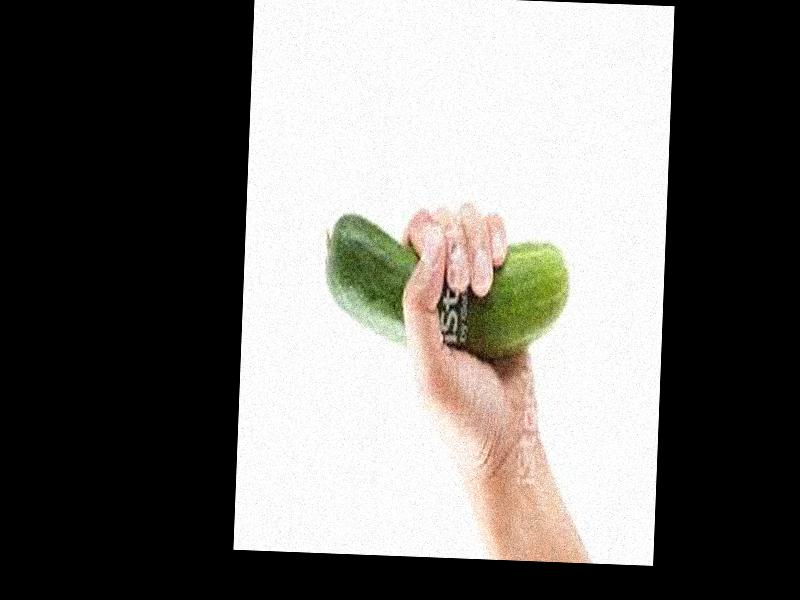Cucumber: (322, 210, 570, 363)
